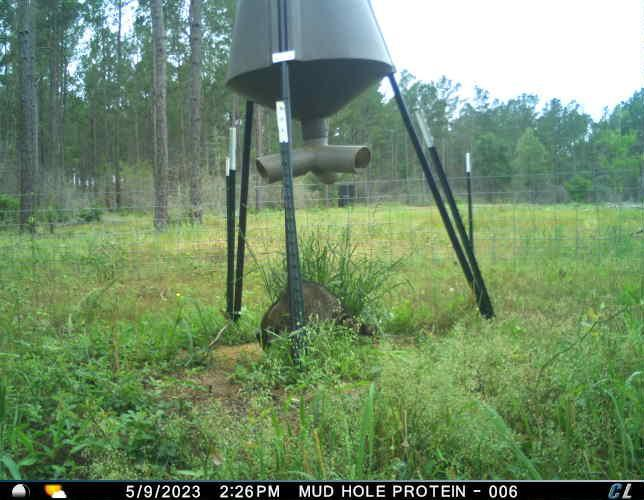Raccoon: (254, 276, 385, 349)
